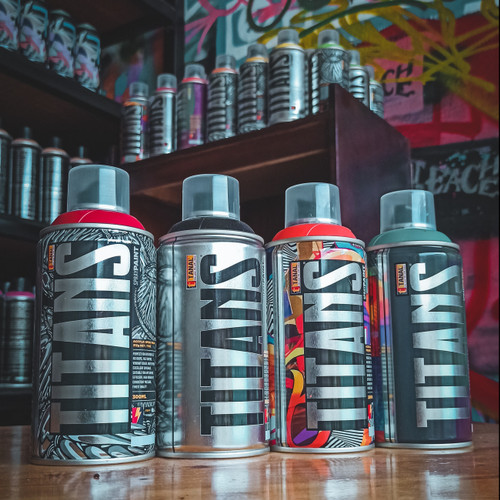cylinder: (29, 223, 156, 464), (156, 229, 270, 458), (264, 236, 375, 453), (365, 240, 474, 449), (269, 46, 310, 125), (3, 291, 36, 388), (307, 47, 352, 116), (9, 141, 42, 223), (238, 60, 269, 134), (206, 71, 238, 142), (175, 81, 206, 151), (39, 151, 69, 223), (74, 23, 101, 94), (120, 97, 148, 163), (48, 10, 75, 78), (148, 92, 175, 158), (20, 3, 49, 64), (1, 1, 21, 54), (350, 66, 370, 109), (370, 81, 384, 119)
